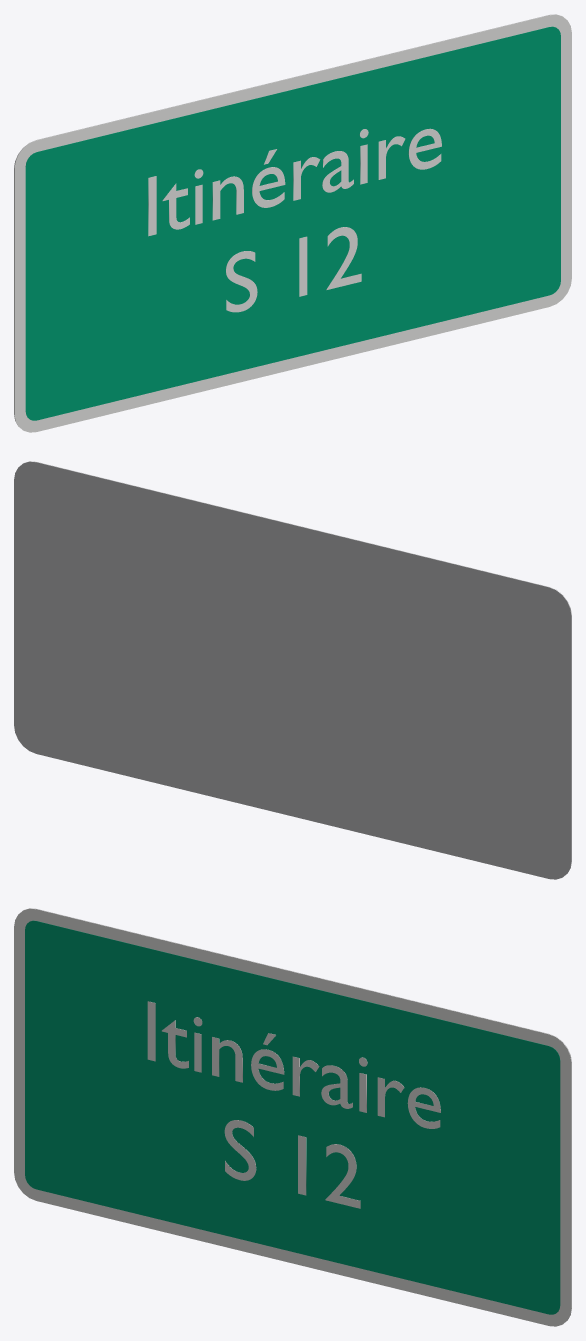
3 renders of one model, top to bottom at view 1: azimuth 30°, elevation 25°; view 2: azimuth 150°, elevation 25°; view 3: azimuth 330°, elevation 25°, orthographic.
Parts seen in each view (by area): view 1: D73_fond01, D73_cadre00, D73_txt02, D73_txt03, D73_dos; view 2: D73_dos; view 3: D73_fond01, D73_cadre00, D73_txt02, D73_txt03, D73_dos.
Part boxes in pixels (x1,y1,x2,y2): D73_fond01: (25, 26, 560, 420); D73_cadre00: (14, 14, 571, 432); D73_txt02: (148, 128, 441, 236); D73_txt03: (226, 227, 361, 312); D73_dos: (14, 14, 559, 426); D73_dos: (14, 461, 571, 879); D73_fond01: (25, 920, 560, 1314); D73_cadre00: (14, 908, 571, 1326); D73_txt02: (147, 1001, 440, 1128); D73_txt03: (224, 1120, 360, 1208); D73_dos: (26, 908, 571, 1320).
Bounding box in the file's own units: 1 × 0.5 × 0.0029.
